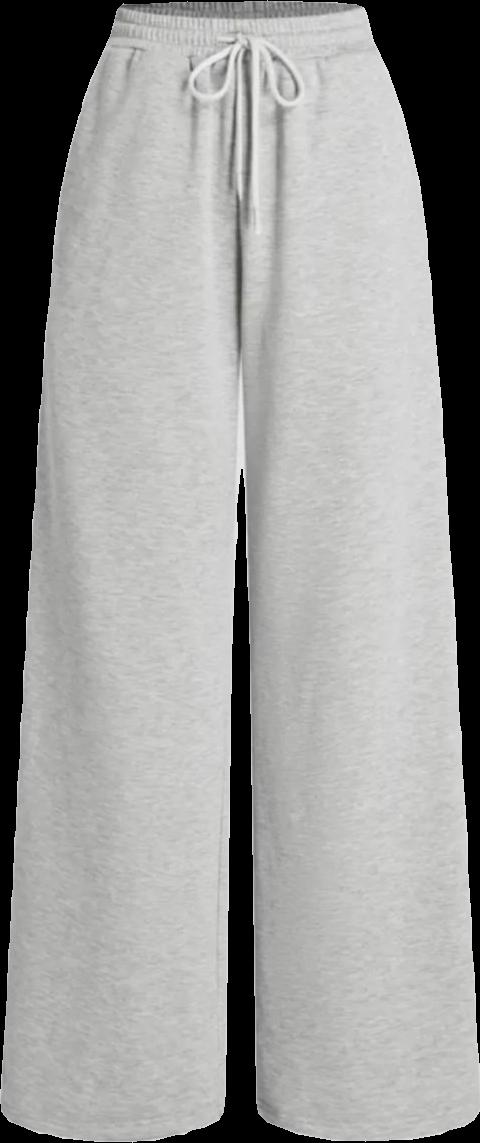Hemline: (0, 1102, 230, 1142), (254, 1104, 479, 1142)
Pantleg: (1, 0, 243, 1140), (237, 0, 479, 1139)
Waistline: (100, 35, 379, 66), (115, 0, 362, 34)
